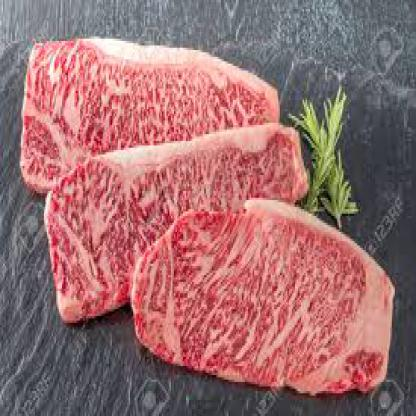beef: (27, 43, 395, 387)
